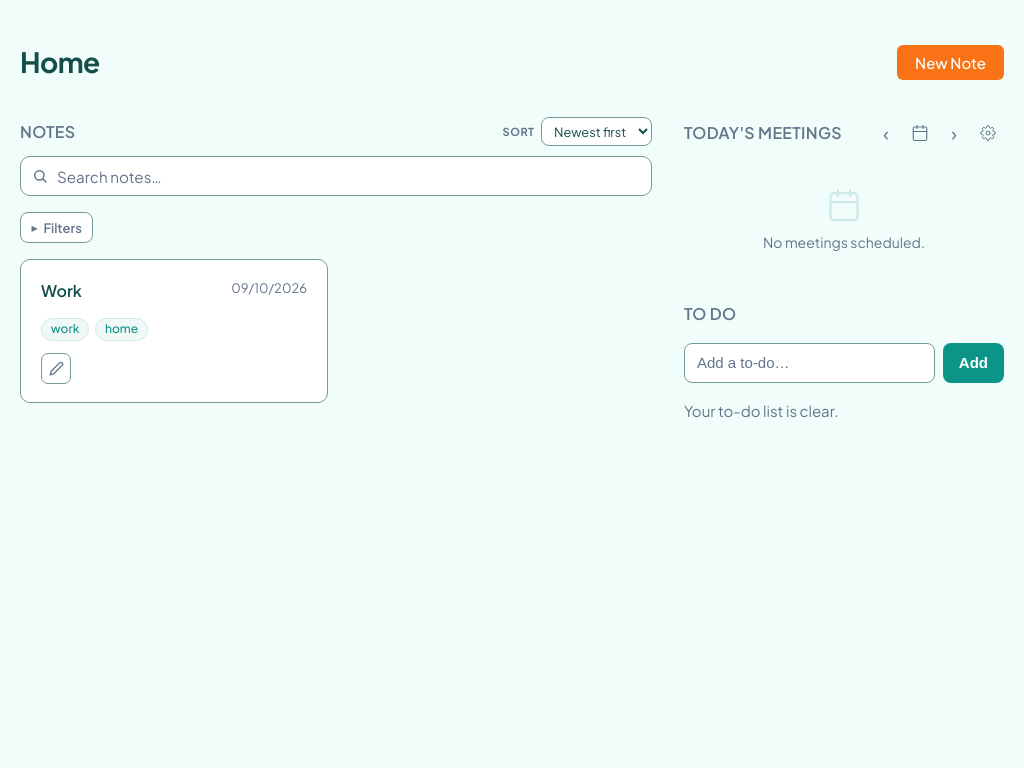
Test: CHANGE-6 — collapsible Filters on the home view › expanding Filters reveals the tag pills, mode toggle, and Clear
Click the button "▸ Filters" at (57, 228), box [20,212,93,243]
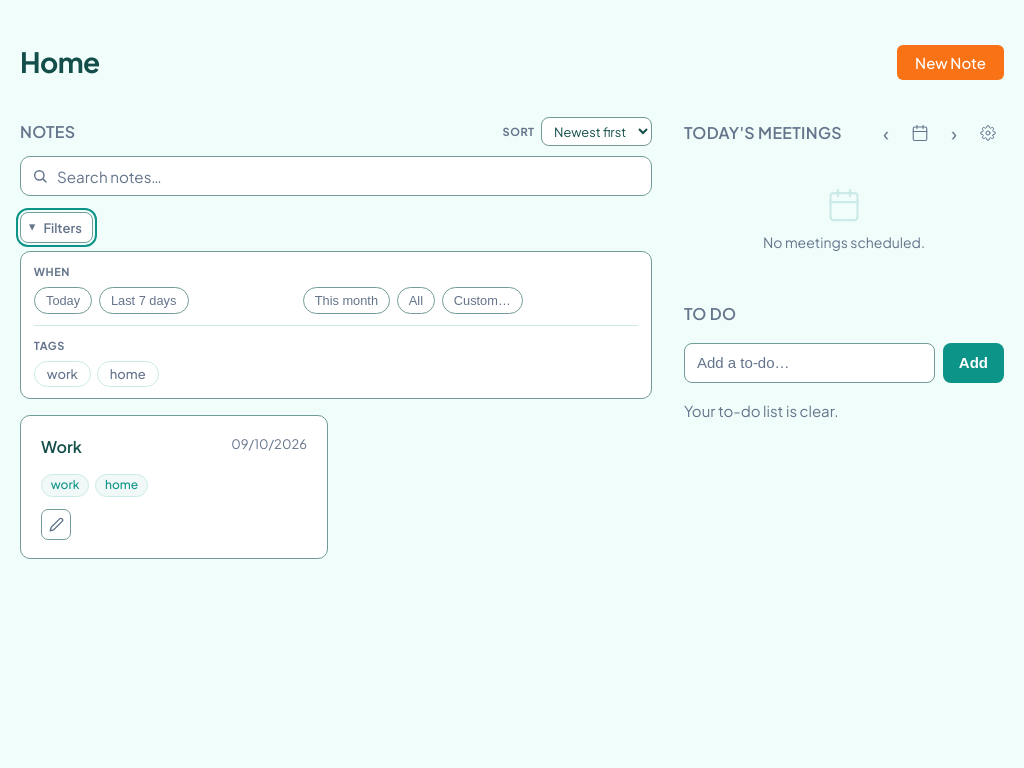
Expected: the button "▸ Filters" is expanded, [20,212,93,243]
Expected: the button with test id "tag-filter-pill-work" is shown
Expected: the button with test id "tag-filter-pill-home" is shown, [97,361,159,387]
Note: Select two tags so the AND/OR mode toggle and Clear appear.
Click the button with test id "tag-filter-pill-work" at (62, 374), box [34,361,91,387]
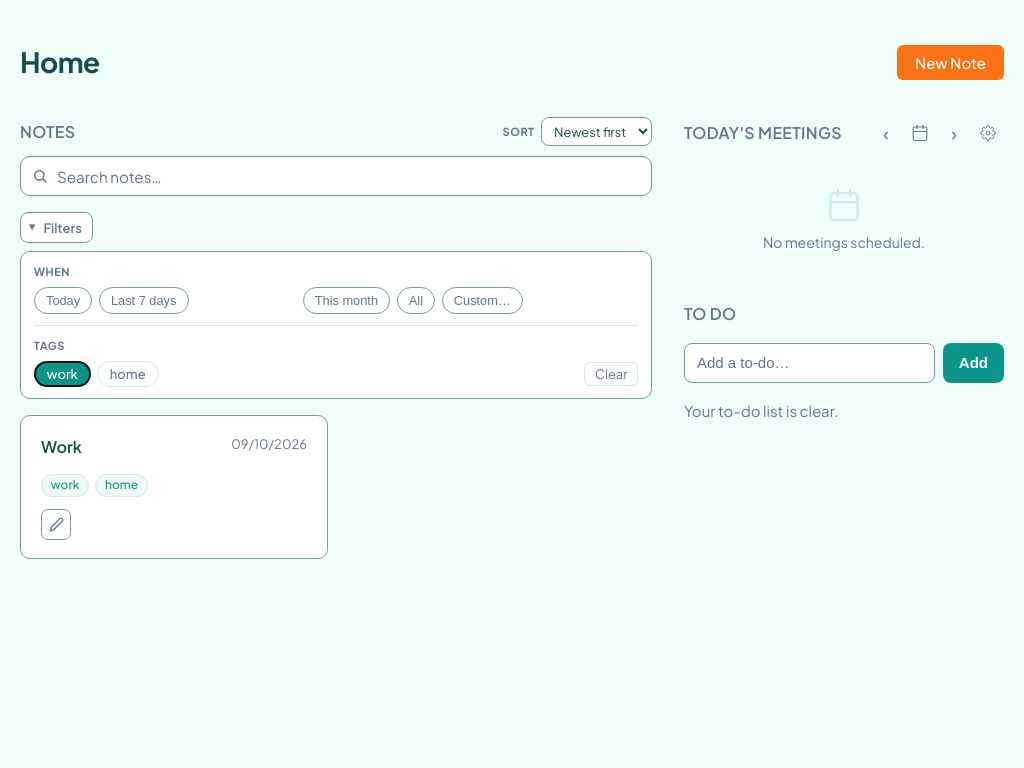
Click the button with test id "tag-filter-pill-home" at (128, 374), box [97,361,159,387]
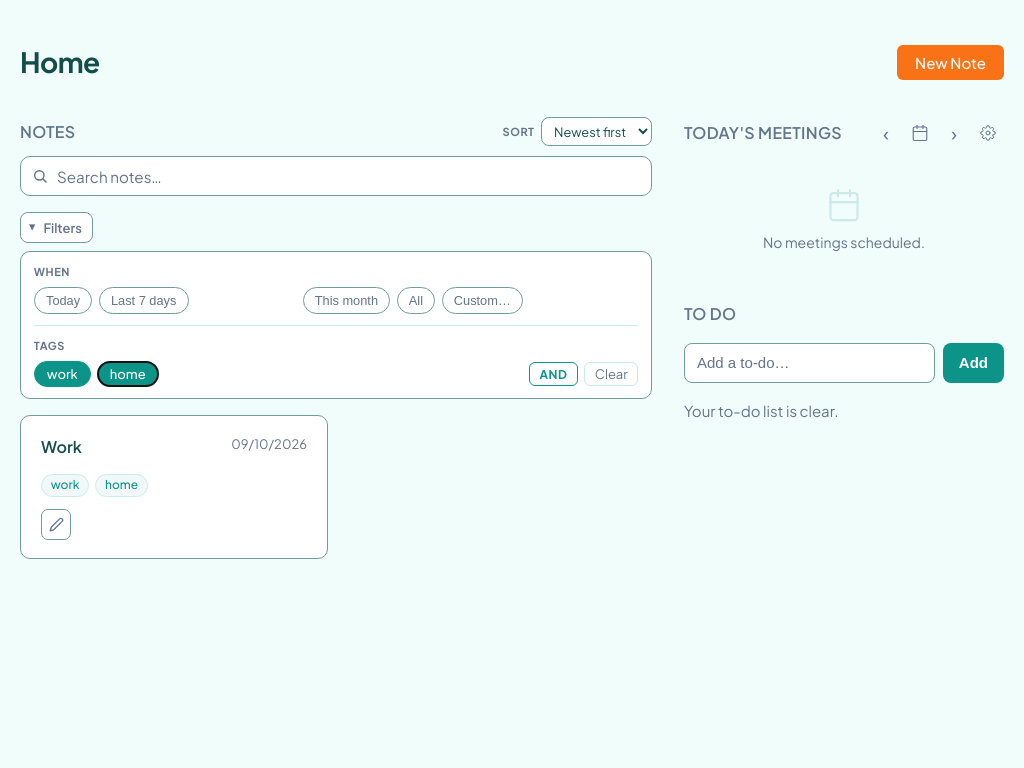
Expected: the button with test id "tag-filter-clear" is shown, [584,362,638,386]
Expected: the button with test id "tag-filter-mode-toggle" is shown, [529,362,578,386]
